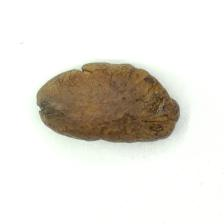NG: (36, 63, 180, 125)
